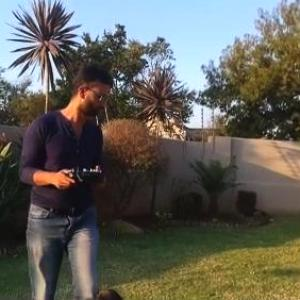follow: (15, 58, 114, 299)
